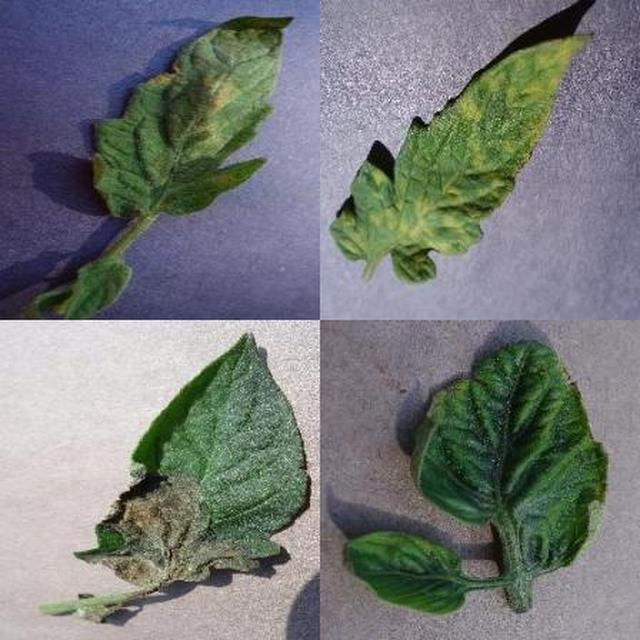Leaf Mold: (182, 117, 640, 640)
